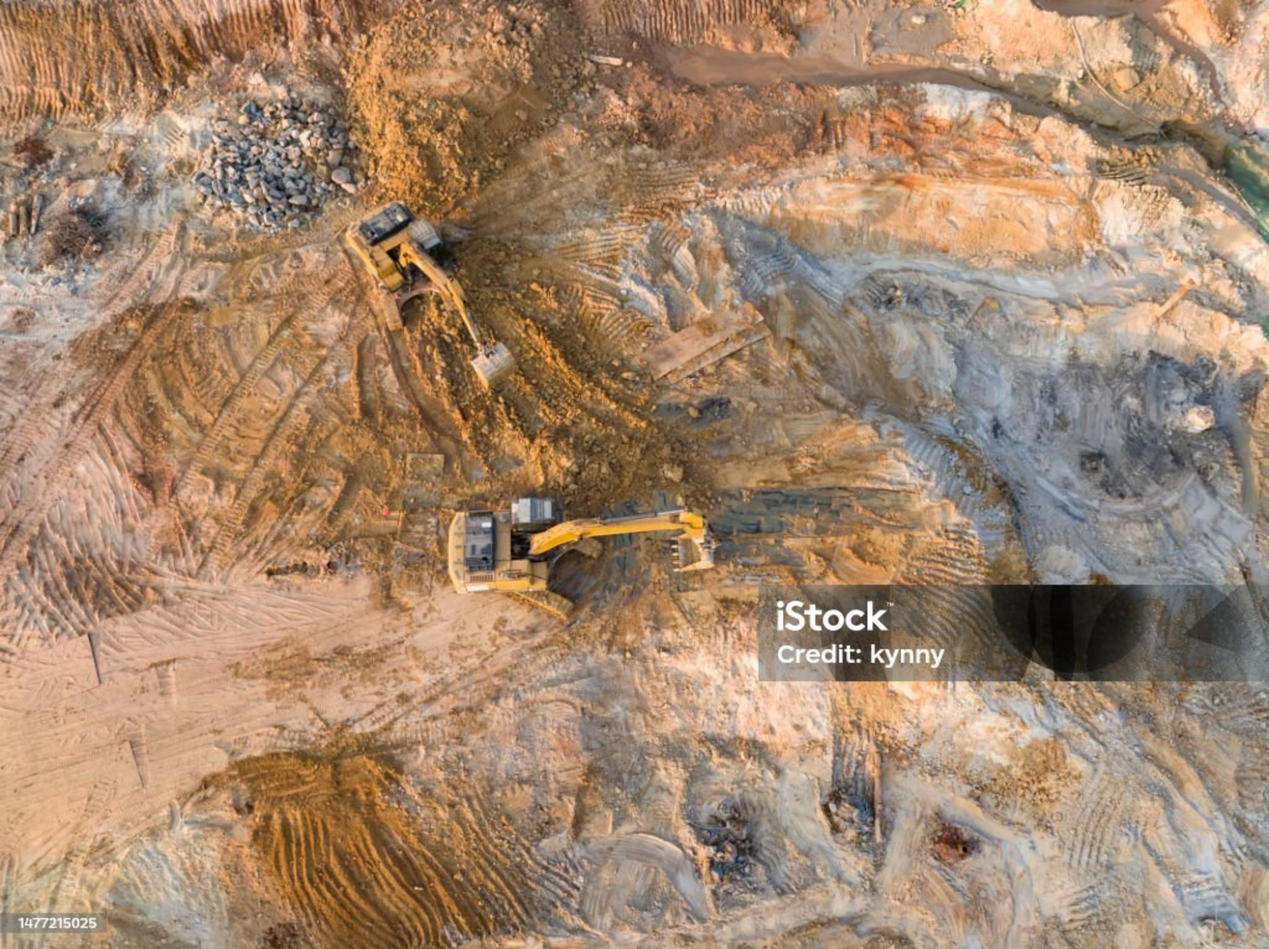excavator: (345, 200, 518, 372), (384, 218, 513, 387), (446, 512, 541, 588), (533, 510, 704, 540)
